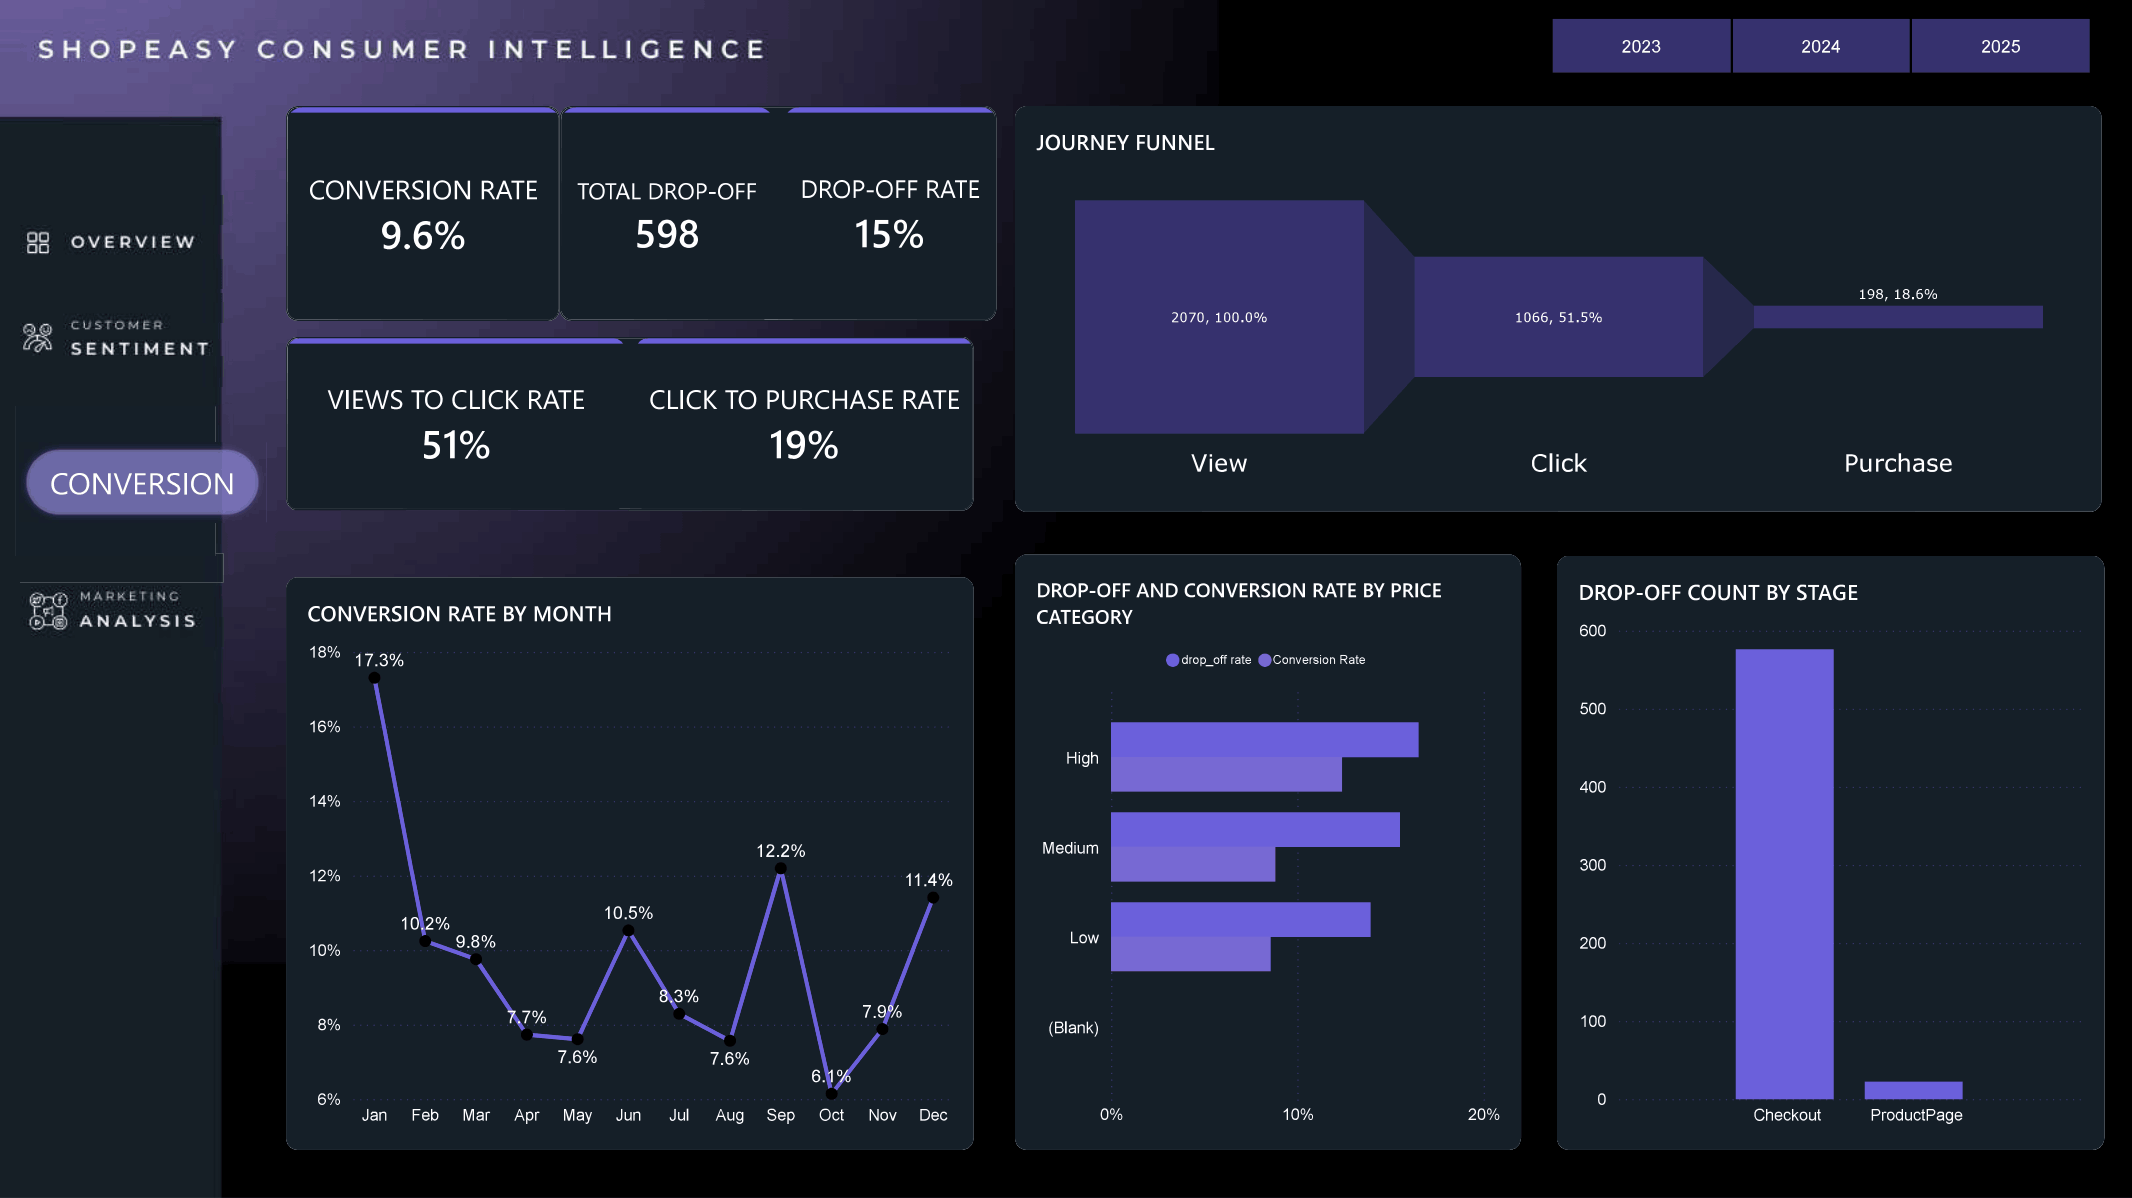

The page's visual inventory and layout, read from the dashboard file:
{"tool":"powerbi","page":{"name":"Conversion Analysis","canvas":[1600,900],"ordinal":2},"visuals":[{"type":"cardVisual","fields":{"Data":["calculations.Conversion Rate"]},"box":[214.8,80.3,204.9,160.7],"z":0},{"type":"cardVisual","fields":{"Data":["calculations.Total Dropoffs","calculations.drop_off rate"]},"box":[420.2,79.8,326.7,161],"z":1000},{"type":"columnChart","title":"DROP-OFF COUNT BY STAGE","fields":{"Category":["customer_journey_cleaned.Stage"],"Y":["CountNonNull(customer_journey_cleaned.JourneyID)"]},"box":[1166.7,416.7,410,445],"z":2000},{"type":"clusteredBarChart","title":"DROP-OFF AND CONVERSION RATE BY PRICE CATEGORY","fields":{"Category":["products.Price Category"],"Y":["calculations.drop_off rate","calculations.Conversion Rate"]},"box":[760.7,415.6,378.8,446.3],"z":3000},{"type":"cardVisual","fields":{"Data":["calculations.View to Click Rate","calculations.Click to Purchase Rate"]},"box":[214.7,253.1,515.3,130.4],"z":4000},{"type":"stackedhorizontalfunnelEC4E2CF18990EF8267C380787C9A6BC9","title":"JOURNEY FUNNEL","fields":{"col_0":["customer_journey_cleaned.Action"],"col_1":["CountNonNull(customer_journey_cleaned.JourneyID)"]},"box":[760.7,80.3,814.8,303.3],"z":5000},{"type":"lineChart","title":"CONVERSION RATE BY MONTH","fields":{"Category":["Calendar.MonthNameShort"],"Y":["calculations.Conversion Rate"]},"box":[214.7,432.5,515.3,429.5],"z":6000},{"type":"slicer","fields":{"Values":["Calendar.Date.Variation.Date Hierarchy.Year"]},"box":[1142.6,13.1,442.6,44.3],"z":7000},{"type":"shape","box":[11.7,305,150,111.7],"z":8000},{"type":"shape","box":[0,316.7,215,90],"z":9000},{"type":"pageNavigator","box":[0,131.7,183.3,100],"z":10000},{"type":"pageNavigator","box":[0,205,183.3,100],"z":11000},{"type":"pageNavigator","box":[0,400,183.3,100],"z":12000}]}

Visuals, with their boxes on the page's 1600x900 design canvas (x1, y1, x2, y2). These are canvas units, not pixel positions in the 2132x1198 screenshot, which may show the page scaled, cropped or inside an application window:
cardVisual - calculations.Conversion Rate: crop(215, 80, 420, 241)
cardVisual - calculations.Total Dropoffs x calculations.drop_off rate: crop(420, 80, 747, 241)
"DROP-OFF COUNT BY STAGE" columnChart: crop(1167, 417, 1577, 862)
"DROP-OFF AND CONVERSION RATE BY PRICE CATEGORY" clusteredBarChart: crop(761, 416, 1140, 862)
cardVisual - calculations.View to Click Rate x calculations.Click to Purchase Rate: crop(215, 253, 730, 384)
"JOURNEY FUNNEL" stackedhorizontalfunnelEC4E2CF18990EF8267C380787C9A6BC9: crop(761, 80, 1576, 384)
"CONVERSION RATE BY MONTH" lineChart: crop(215, 432, 730, 862)
slicer - Calendar.Date.Variation.Date Hierarchy.Year: crop(1143, 13, 1585, 57)
shape: crop(12, 305, 162, 417)
shape: crop(0, 317, 215, 407)
pageNavigator: crop(0, 132, 183, 232)
pageNavigator: crop(0, 205, 183, 305)
pageNavigator: crop(0, 400, 183, 500)
